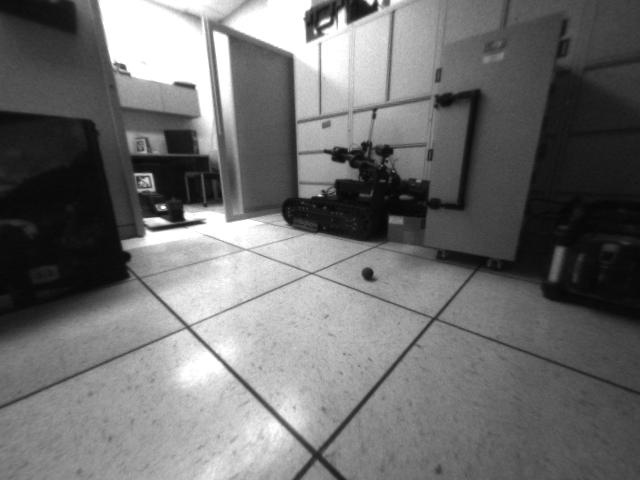dogtoy: (357, 262, 380, 285)
